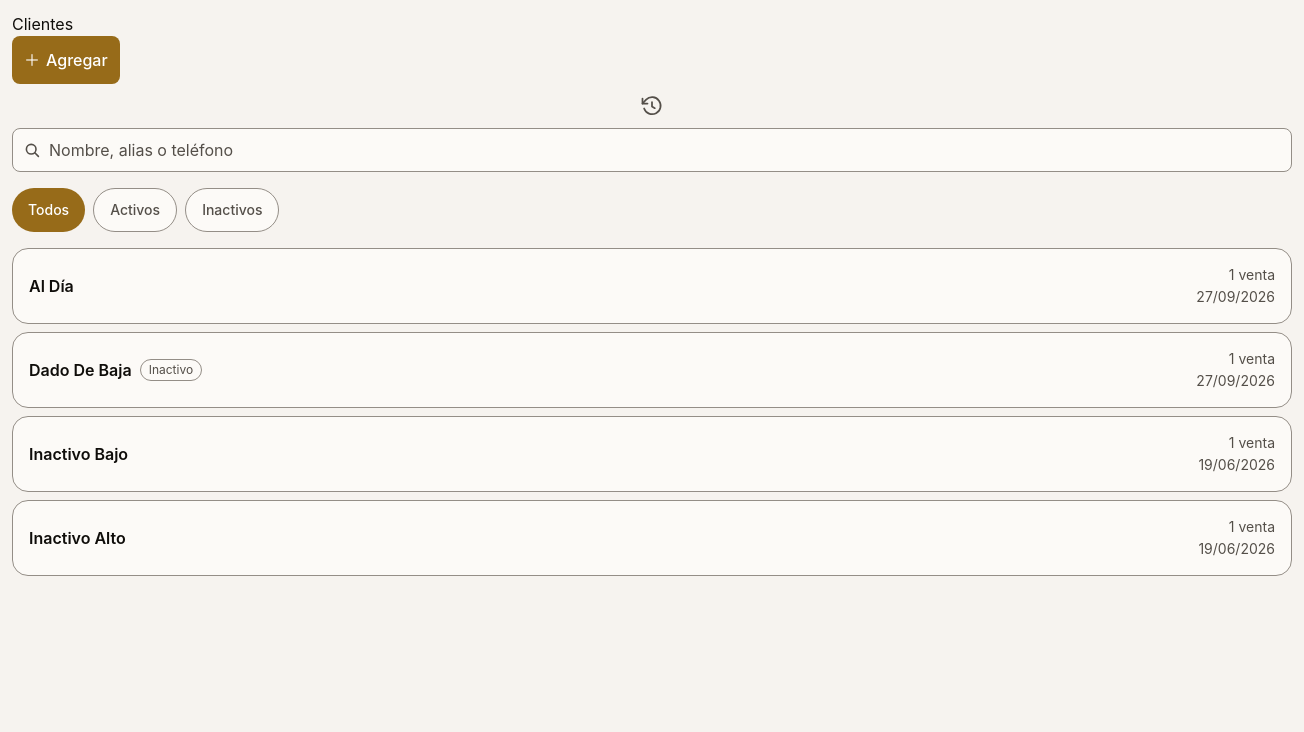
Test: Clientes - terna Todos/Activos/Inactivos (WA-G, docs/06-ui-ux.md §3) › "Activos": excluye a los dados de baja Y a los vigentes inactivos por ritmo comercial
The image size is (1304, 732).
Click the button "Activos" at (135, 210), box [93,188,177,232]
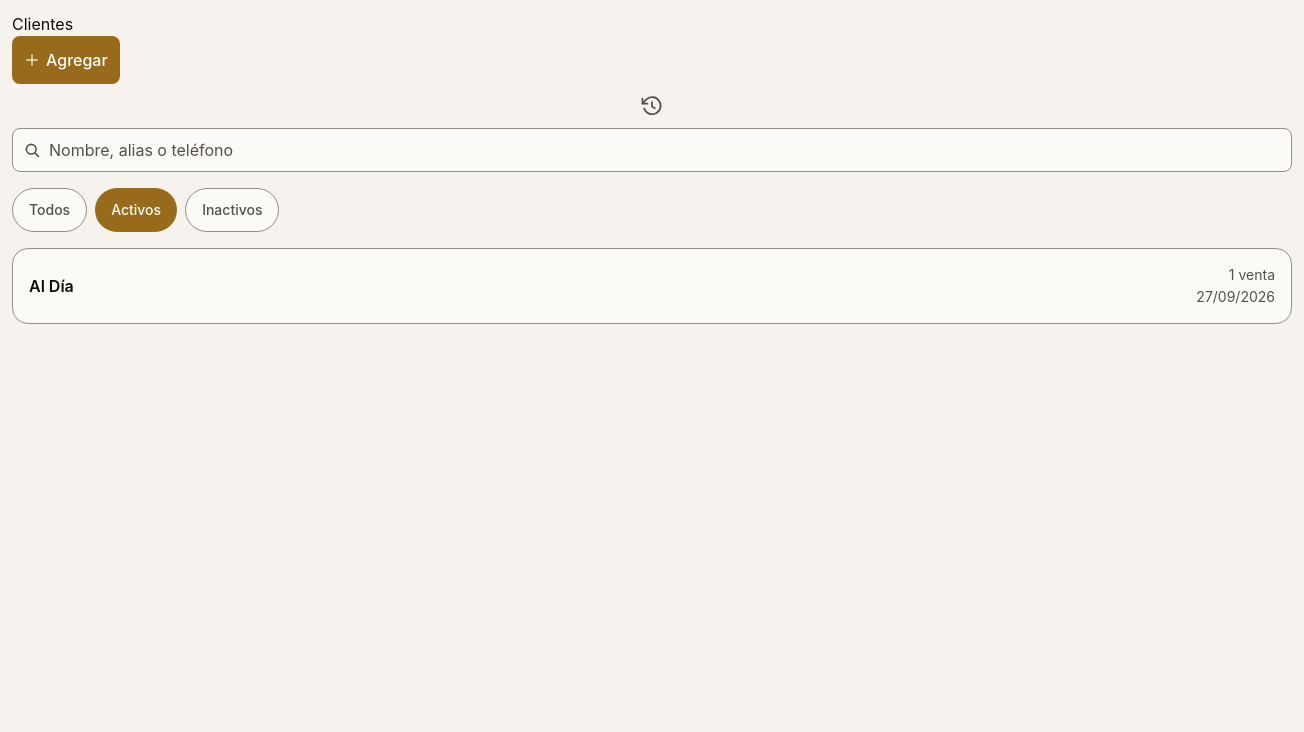
Now the button "Dado De Baja" is gone
Now the button "Inactivo Bajo" is gone
Now the button "Inactivo Alto" is gone
